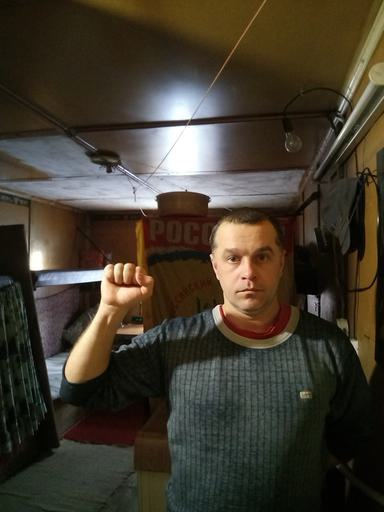fist: (98, 261, 156, 309)
